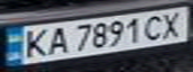1: (121, 16, 145, 44)
7: (69, 21, 93, 53)
8: (90, 19, 112, 51)
9: (106, 18, 127, 47)
A: (42, 24, 72, 56)
C: (139, 11, 169, 42)
K: (18, 26, 51, 60)
X: (157, 8, 190, 39)
